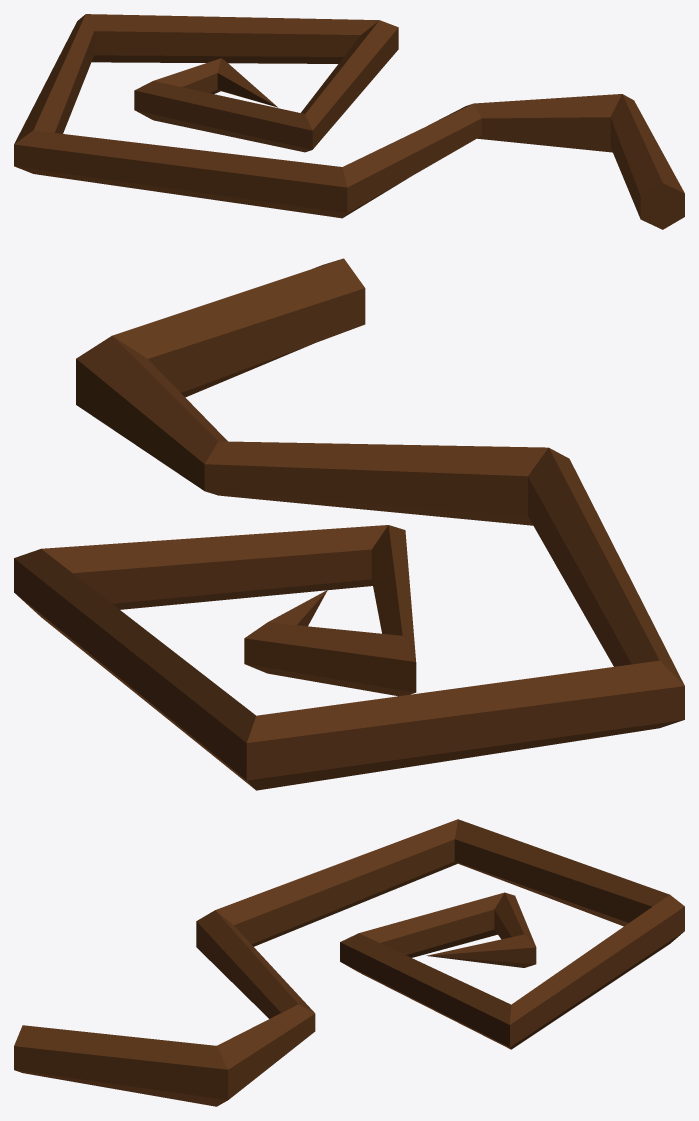
Rendered from Hair.fbx.
The picture shows the model from 3 angles, top to bottom: view 1: azimuth 30°, elevation 25°; view 2: azimuth 150°, elevation 25°; view 3: azimuth 270°, elevation 25°; orthographic projection. The views are drawn at different scales.
Visible parts, largest first — view 1: Hair; view 2: Hair; view 3: Hair.
Part boxes in pixels (x1=…): Hair: x1=14, y1=14, x2=684, y2=229; Hair: x1=14, y1=258, x2=684, y2=790; Hair: x1=14, y1=819, x2=684, y2=1106.
Size of the model in its own units: 9.3 by 1.05 by 10.45.
